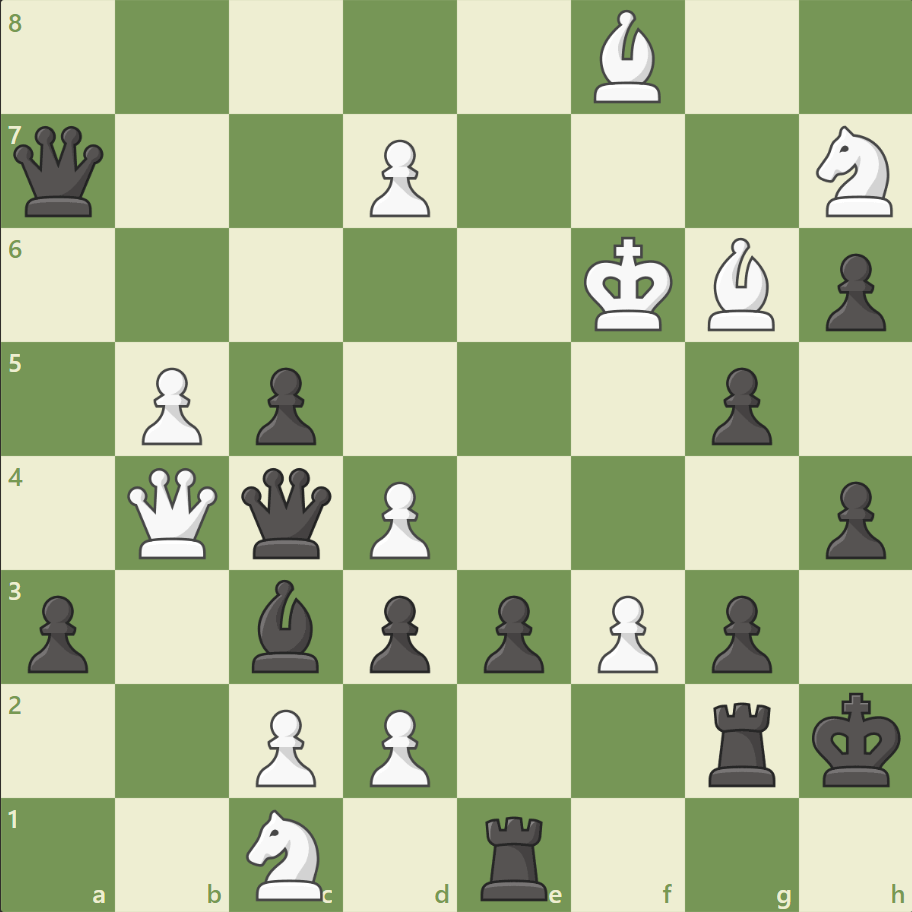B: (585, 6, 669, 109), (698, 233, 782, 336)
K: (579, 231, 679, 339)
N: (806, 121, 903, 223), (238, 802, 335, 904)
P: (133, 359, 208, 450), (247, 700, 322, 791), (361, 132, 435, 223), (361, 473, 435, 564), (588, 586, 662, 677), (361, 700, 435, 791)
Q: (124, 463, 223, 562)
b: (244, 574, 328, 676)
k: (806, 685, 906, 793)
p: (247, 359, 322, 450), (701, 359, 776, 450), (20, 586, 95, 677), (474, 586, 549, 677), (701, 586, 776, 677), (815, 246, 889, 337), (815, 473, 889, 564), (361, 586, 435, 677)
q: (10, 122, 109, 222), (237, 463, 336, 562)
r: (473, 806, 556, 904), (700, 693, 783, 790)
